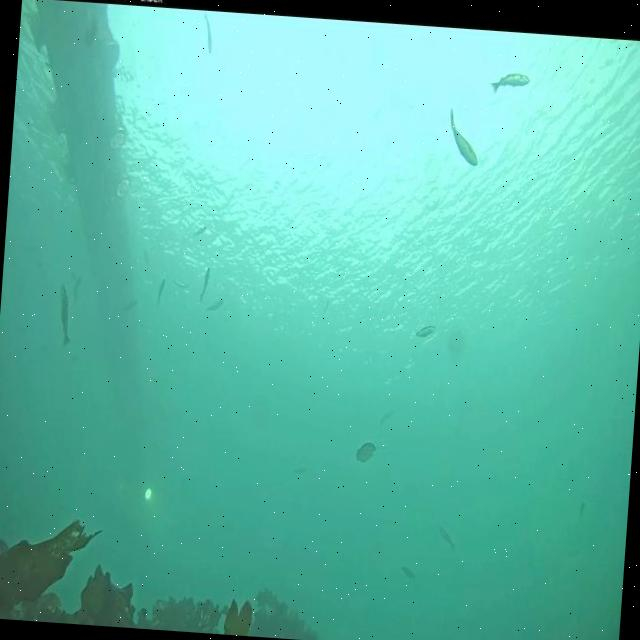fish: (445, 106, 481, 166), (56, 282, 74, 346), (490, 71, 530, 96), (356, 438, 378, 469), (437, 524, 458, 549), (203, 19, 215, 56), (199, 269, 210, 303), (138, 249, 154, 272), (204, 296, 223, 314), (402, 562, 416, 583), (419, 322, 435, 340), (379, 410, 395, 428), (122, 296, 138, 312), (156, 278, 165, 304), (172, 277, 188, 290), (194, 224, 208, 237), (292, 465, 310, 474)
